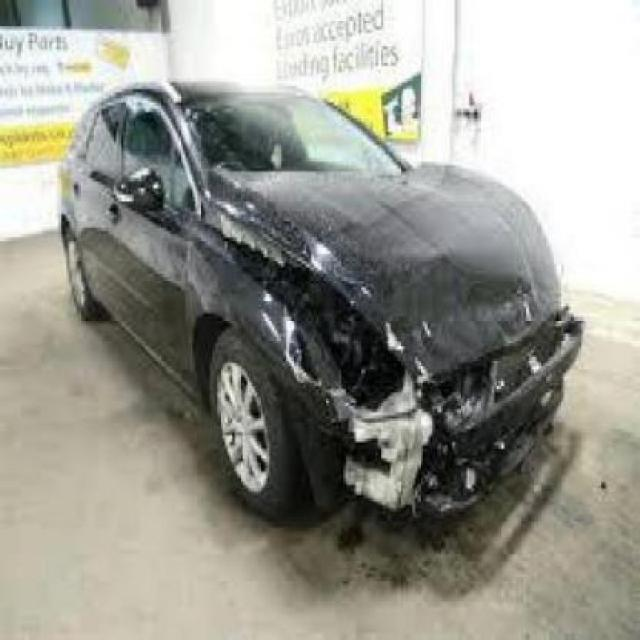damage: (205, 201, 586, 518)
